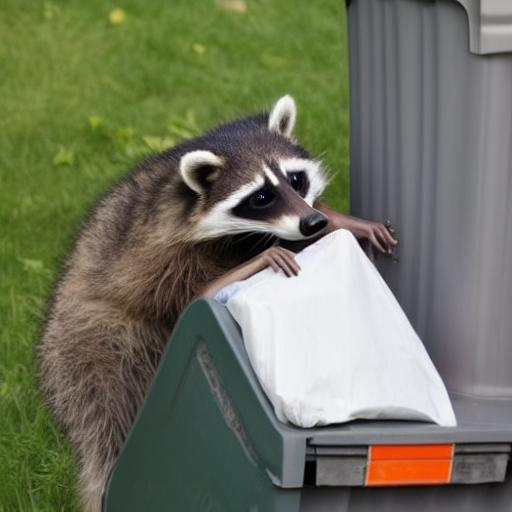raccoon: (31, 84, 340, 511)
